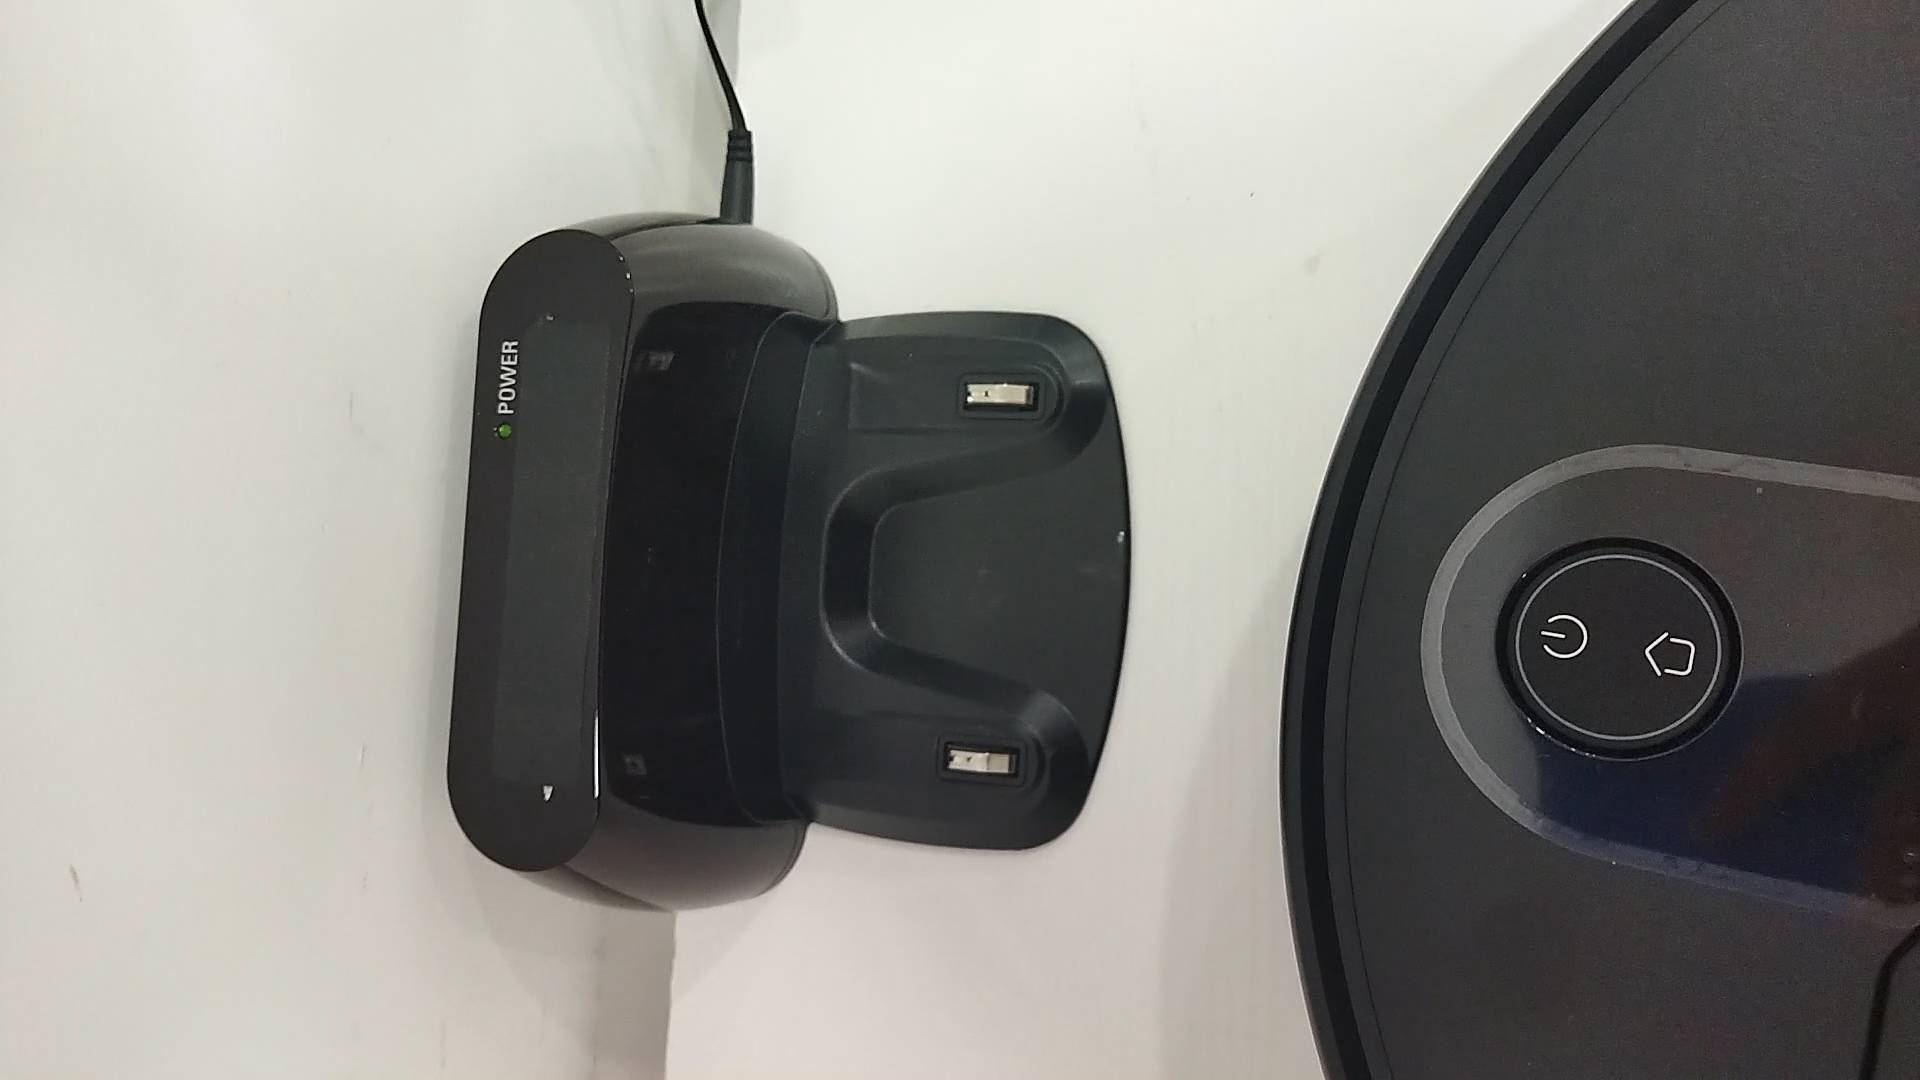recharge seat: (443, 218, 1135, 911)
